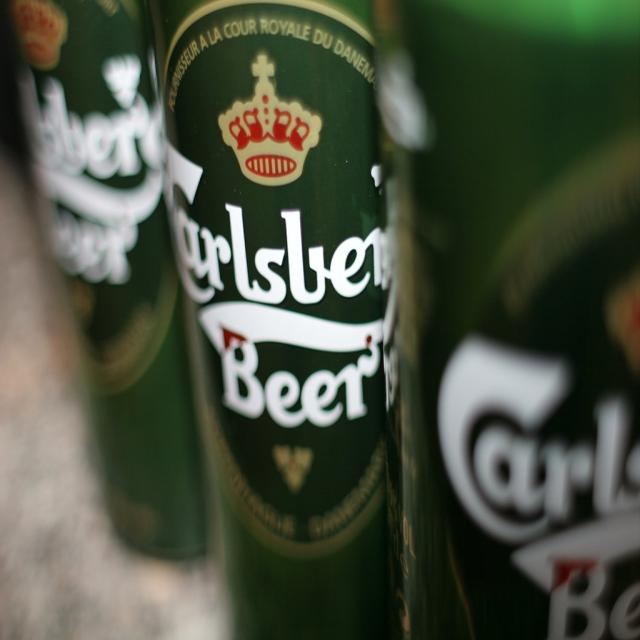carlsberg: (153, 2, 398, 553)
